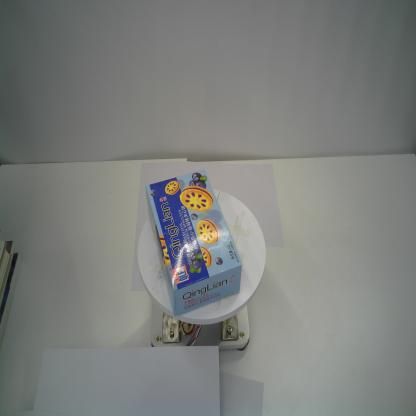Dessert: (144, 169, 243, 317)
